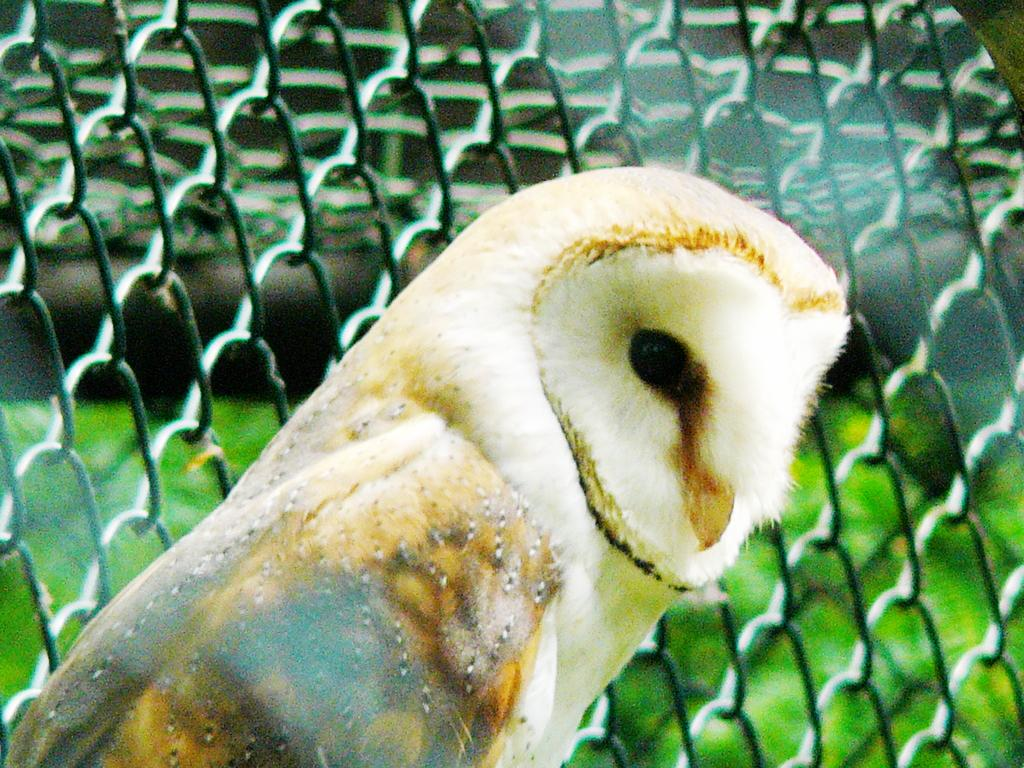Owl: (26, 162, 857, 768)
